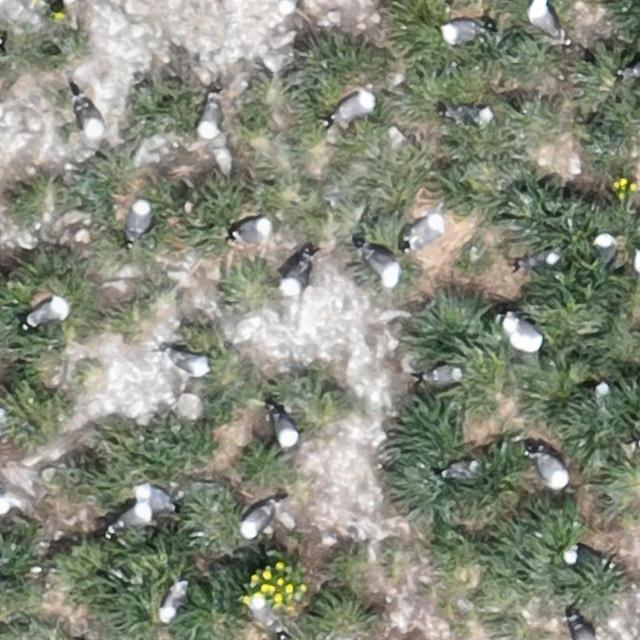umineko: (493, 308, 544, 352), (400, 215, 445, 254), (276, 256, 314, 298), (77, 91, 109, 139), (134, 485, 178, 514), (536, 455, 568, 489), (367, 251, 398, 283), (242, 504, 272, 536), (252, 600, 282, 632), (334, 92, 372, 117), (448, 105, 494, 125), (31, 299, 66, 323), (532, 5, 558, 36), (274, 413, 297, 447), (114, 506, 149, 528), (234, 220, 268, 242), (172, 355, 207, 376), (128, 202, 149, 236), (443, 21, 477, 42), (162, 586, 183, 620), (200, 100, 220, 135), (427, 366, 461, 384), (442, 461, 475, 479), (596, 234, 614, 264), (572, 621, 597, 640)
